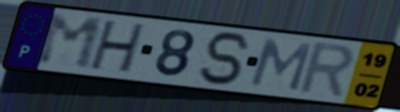8: (154, 28, 197, 78)
H: (86, 19, 149, 76)
M: (35, 12, 106, 72), (246, 37, 315, 94)
R: (294, 40, 357, 101)
S: (197, 30, 255, 88)
